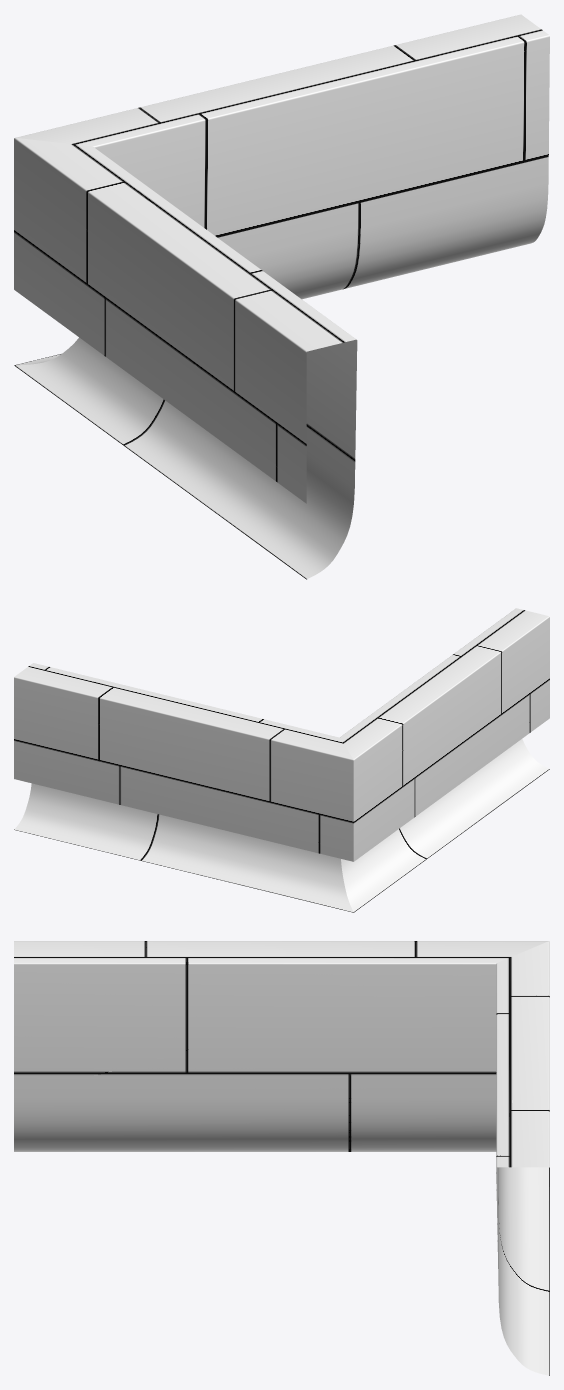
Rendered from Parapet01_350cmAngle1.FBX.
3 renders of one model, top to bottom at view 1: azimuth 30°, elevation 25°; view 2: azimuth 150°, elevation 25°; view 3: azimuth 270°, elevation 25°, orthographic. The views are drawn at different scales.
Visible parts, largest first — view 1: Parapet01_350cmAngle1; view 2: Parapet01_350cmAngle1; view 3: Parapet01_350cmAngle1.
Part boxes in pixels (x1,y1,x2,y2): Parapet01_350cmAngle1: (14,14,549,579); Parapet01_350cmAngle1: (14,608,549,912); Parapet01_350cmAngle1: (14,941,549,1375).
Bounding box in the file's own units: 350 × 150 × 350.
